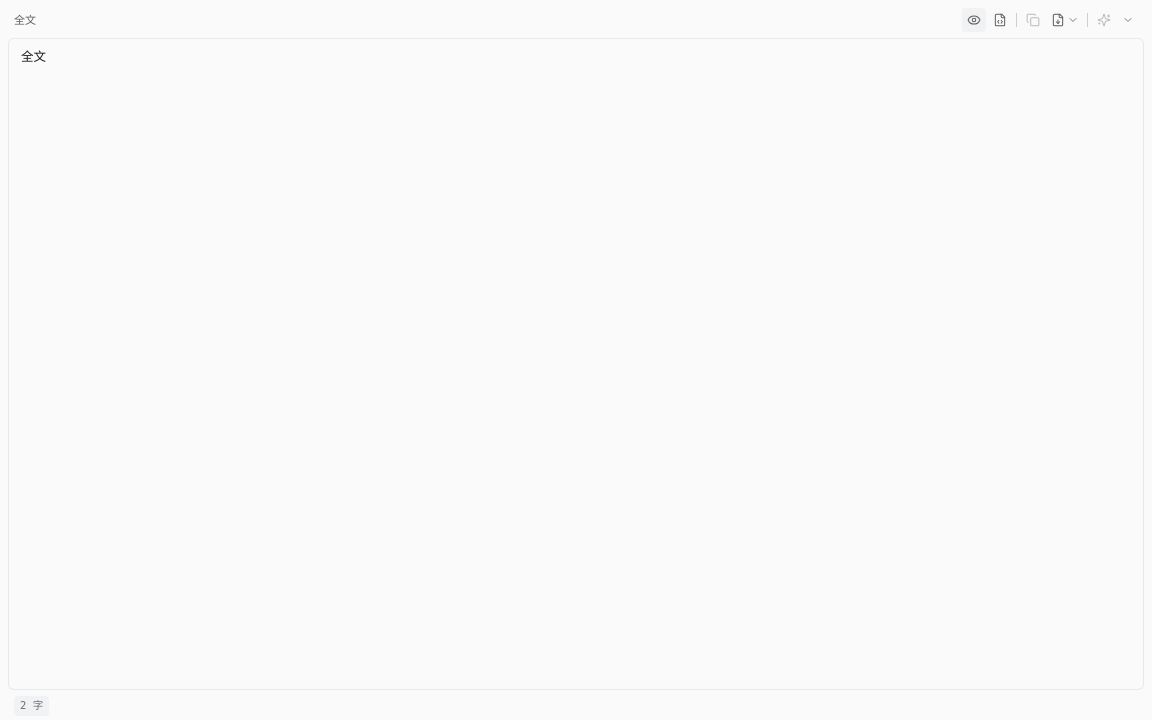
it: OcrTextPanel toolbar — export menu › dims the per-article entry instead of degrading it to a full-text export
Click the button named "导出" at coordinates (1065, 20), box [1047,8,1083,32]
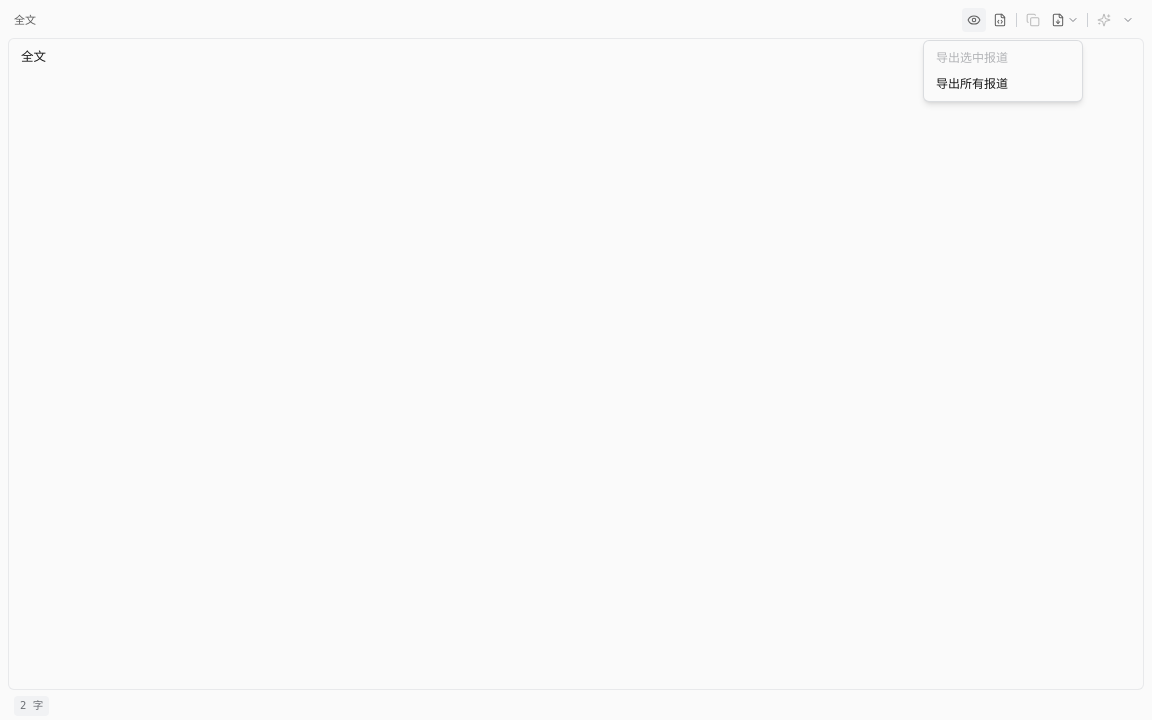
Now the menu item "导出选中报道" is disabled, box [928,45,1078,71]
Now the menu item "导出所有报道" is enabled, box [928,71,1078,97]
